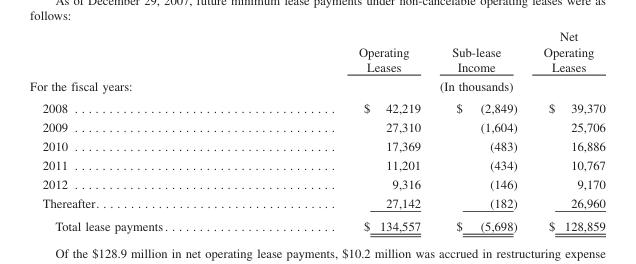table: (29, 29, 604, 232)
table column: (29, 29, 262, 232), (262, 29, 435, 232), (435, 29, 529, 232), (529, 29, 604, 232)
table column header: (29, 29, 604, 75)
table row: (29, 29, 604, 75), (29, 75, 604, 96), (29, 96, 604, 117), (29, 193, 604, 214), (29, 117, 604, 136), (29, 136, 604, 155), (29, 155, 604, 174), (29, 174, 604, 193), (29, 214, 604, 232)
table spanning cell: (262, 75, 604, 96)
